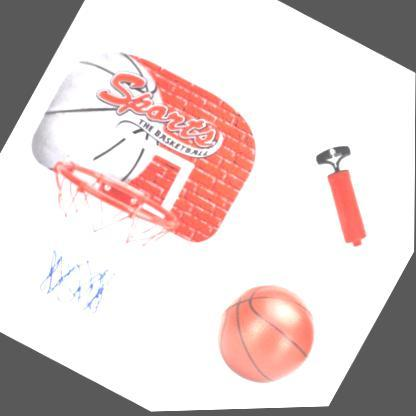basketball: (197, 266, 335, 406)
rim: (0, 150, 181, 335)
